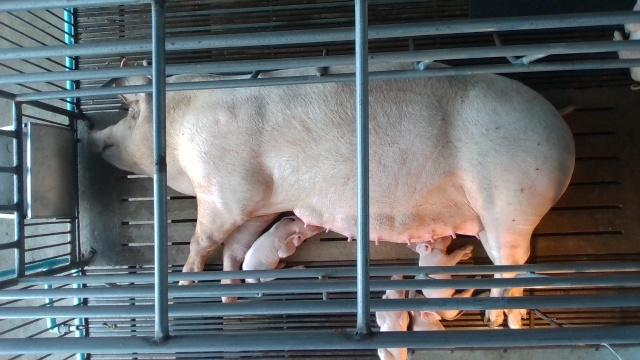piglet: (407, 236, 490, 320), (242, 216, 326, 283), (375, 275, 409, 360), (410, 292, 445, 331)
sow-sleep-lactate: (89, 59, 576, 328)
